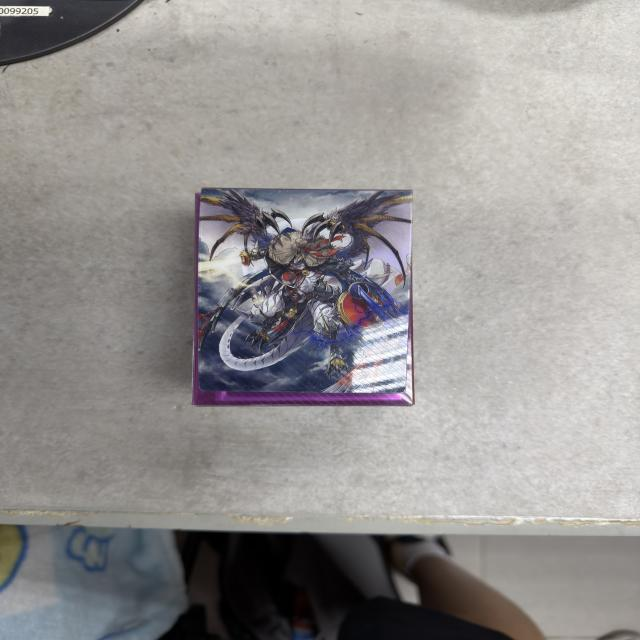box: (195, 188, 415, 408)
